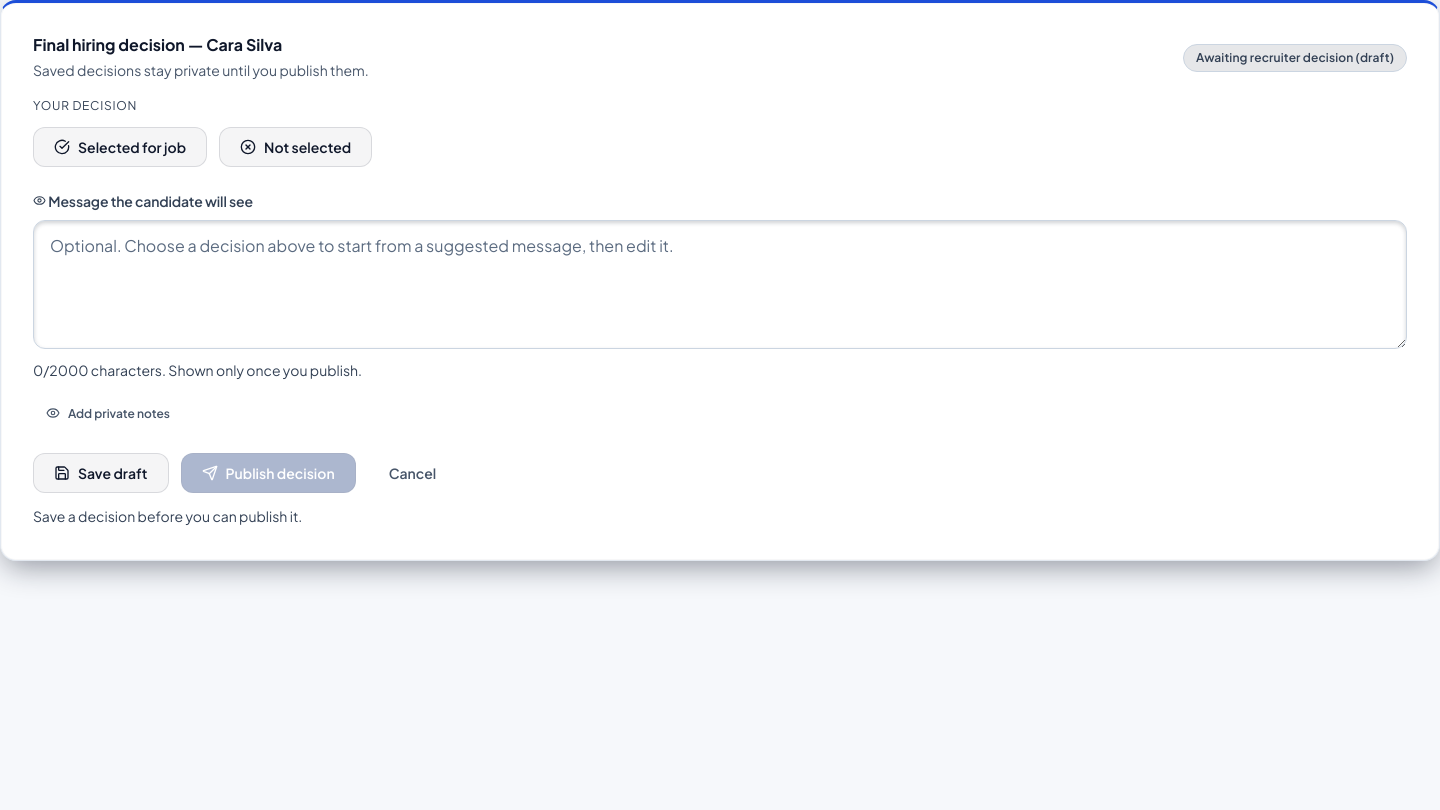
it: saving without choosing is refused in the browser
The image size is (1440, 810).
Click the button "Save draft" at (101, 473), box [33,453,168,493]
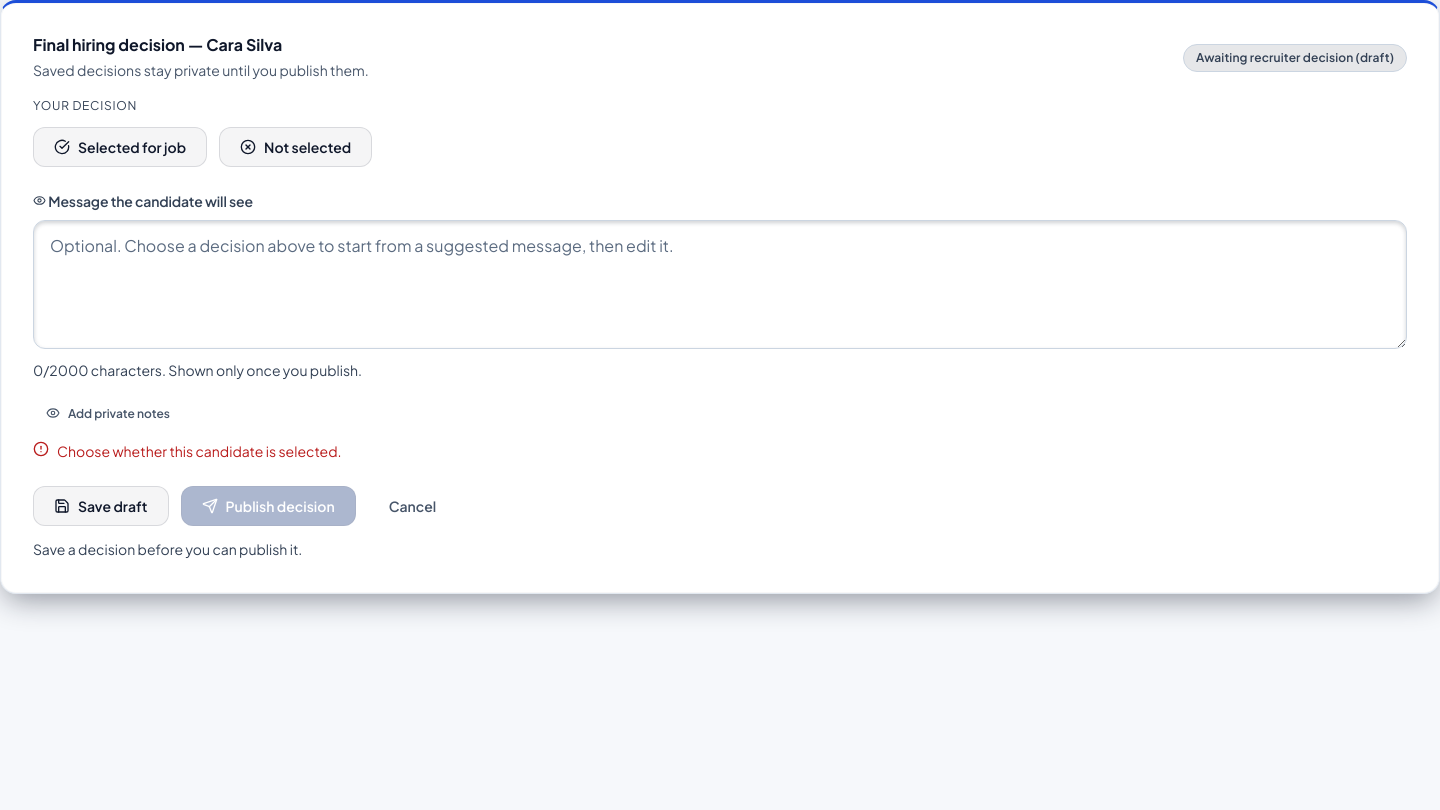
Expected: the message "Choose whether this candidate is selected." is shown, [33,441,342,460]
